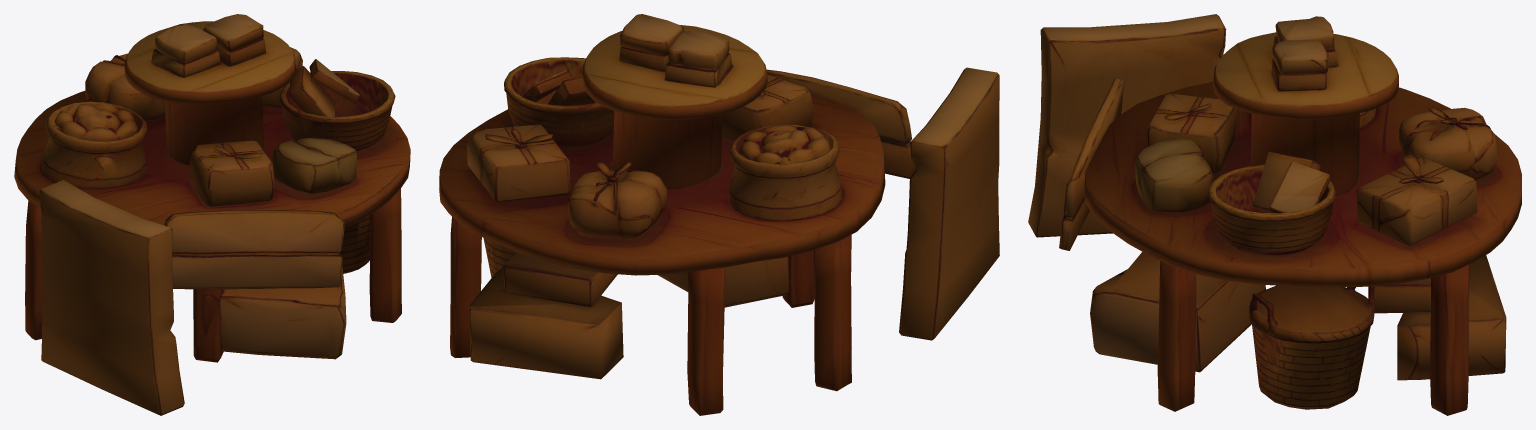
File: shop_interior.glb
3 renders of one model, left to right at view 1: azimuth 30°, elevation 25°; view 2: azimuth 150°, elevation 25°; view 3: azimuth 270°, elevation 25°, orthographic. The views are drawn at different scales.
Parts seen in each view (by area): view 1: tripo_node_7dc8d838-efda-4c68-b40b-1220cad4e115; view 2: tripo_node_7dc8d838-efda-4c68-b40b-1220cad4e115; view 3: tripo_node_7dc8d838-efda-4c68-b40b-1220cad4e115.
Part boxes in pixels (box(x1,y1,x2,y2)): tripo_node_7dc8d838-efda-4c68-b40b-1220cad4e115: box(14, 14, 410, 415); tripo_node_7dc8d838-efda-4c68-b40b-1220cad4e115: box(439, 14, 999, 415); tripo_node_7dc8d838-efda-4c68-b40b-1220cad4e115: box(1028, 14, 1521, 415).
Size of the model in its own units: 0.9941 by 0.6816 by 0.998.
1 material, 1 textured.
